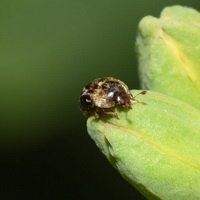insect: (80, 77, 134, 117)
